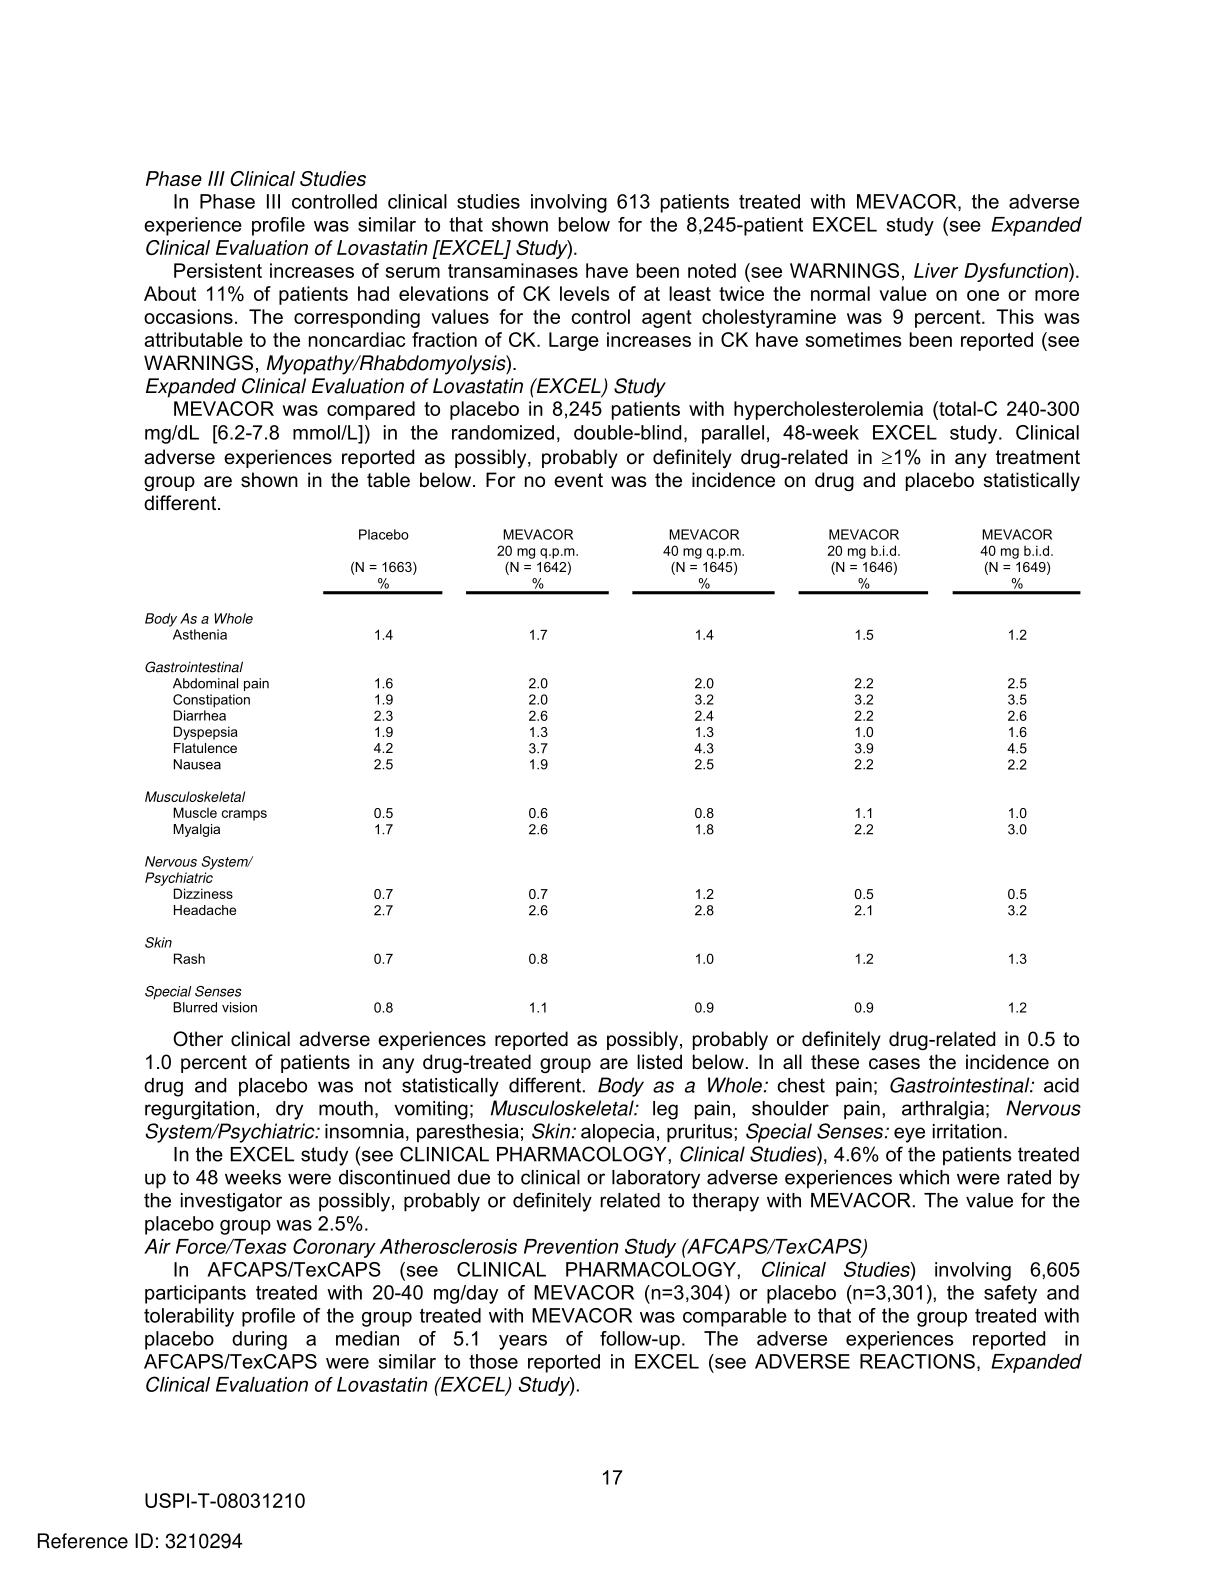nolines: (144, 526, 1079, 1020)
